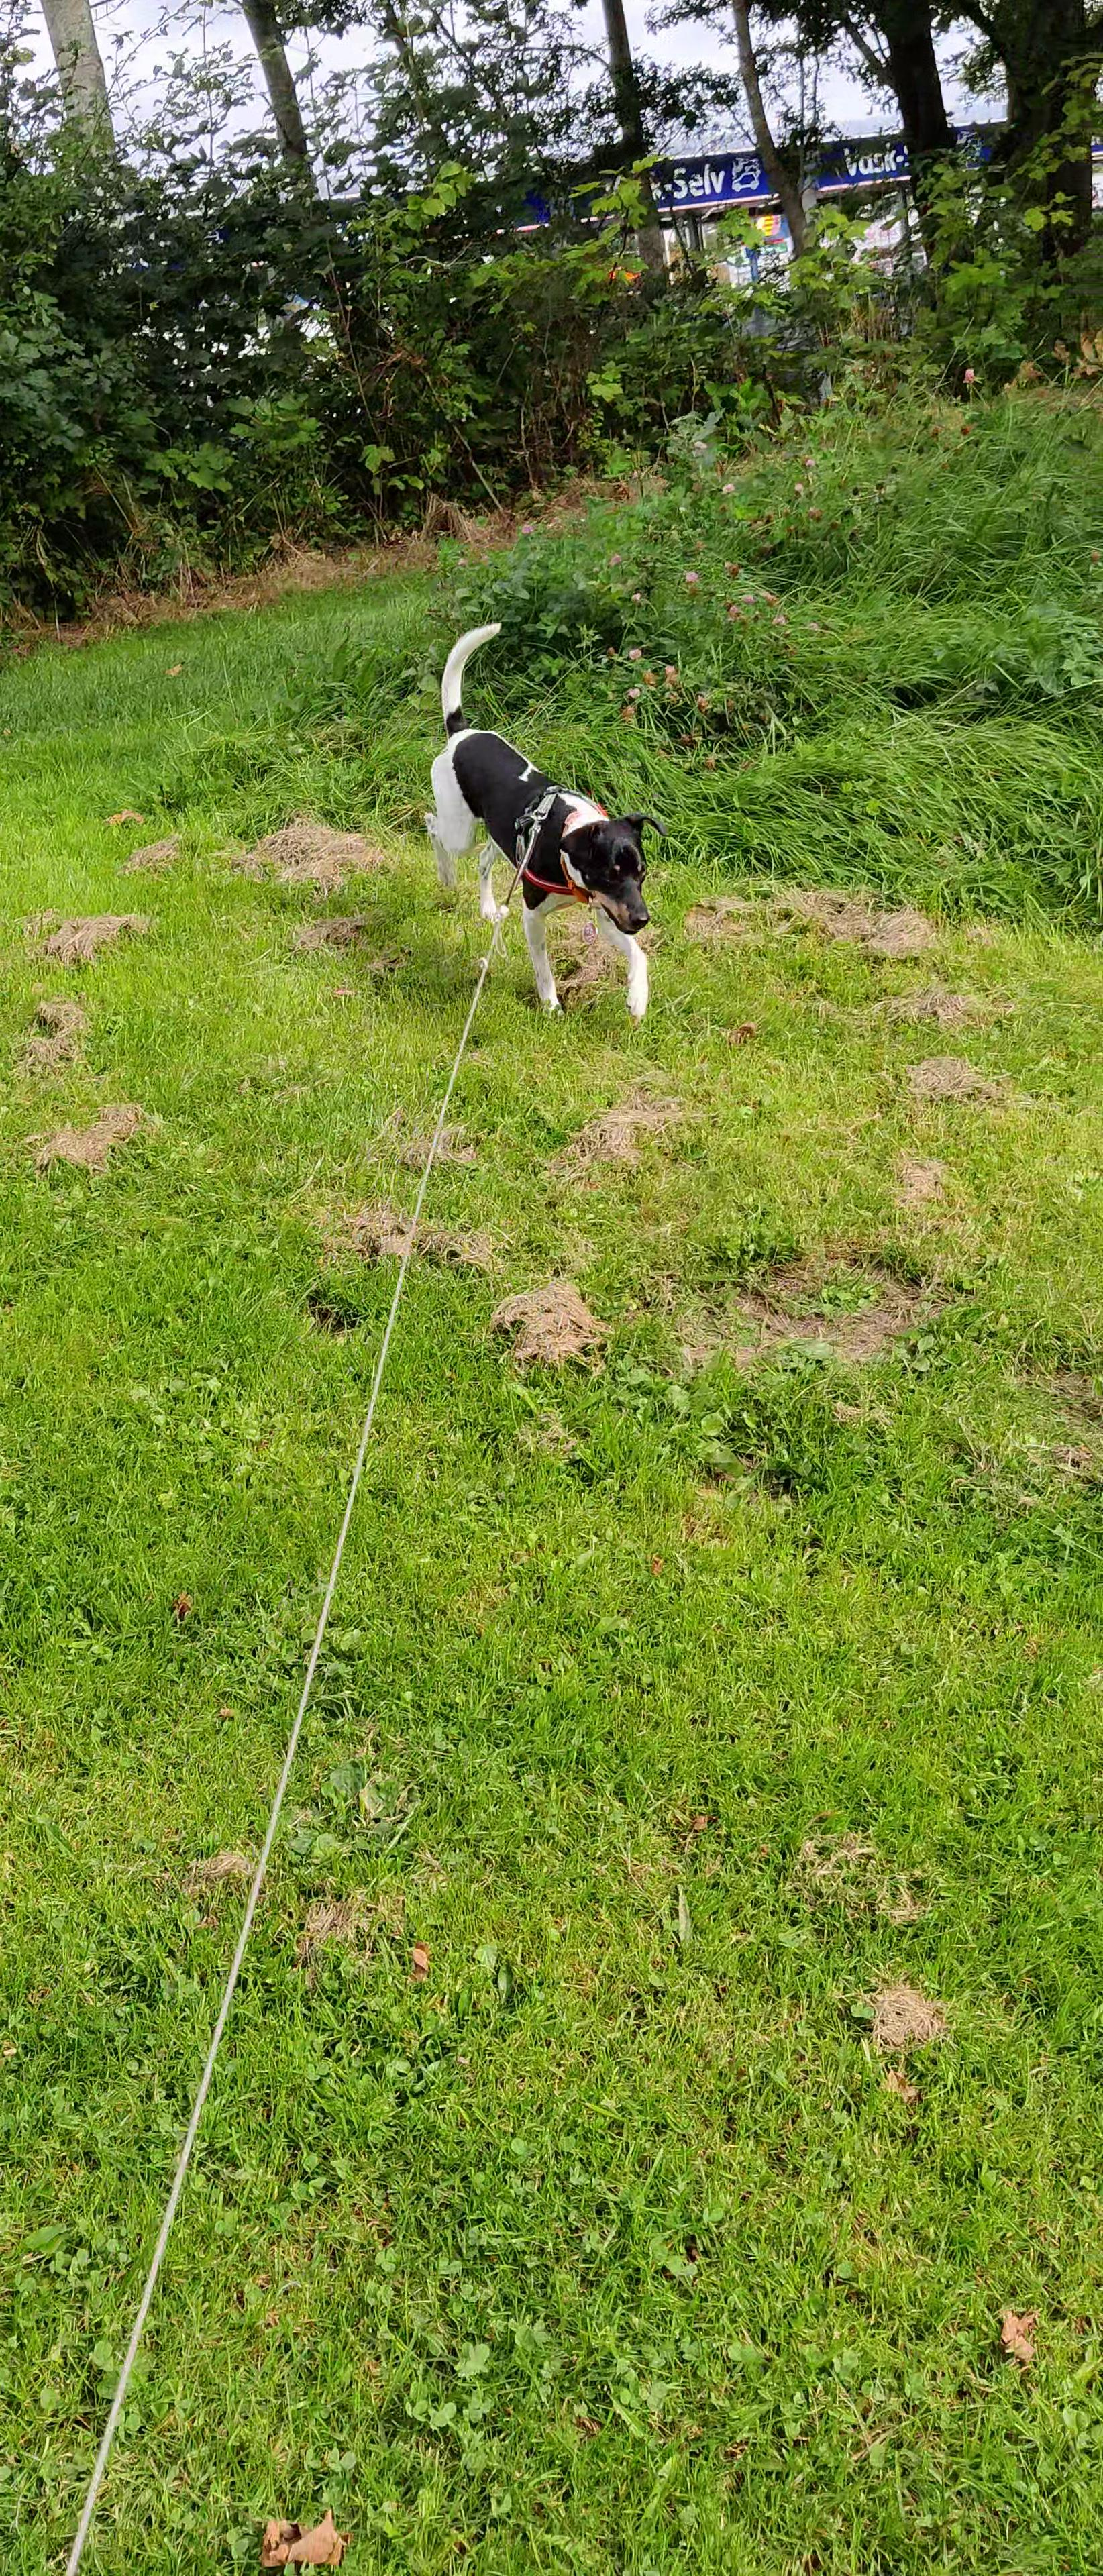Dog: (403, 605, 679, 1035)
